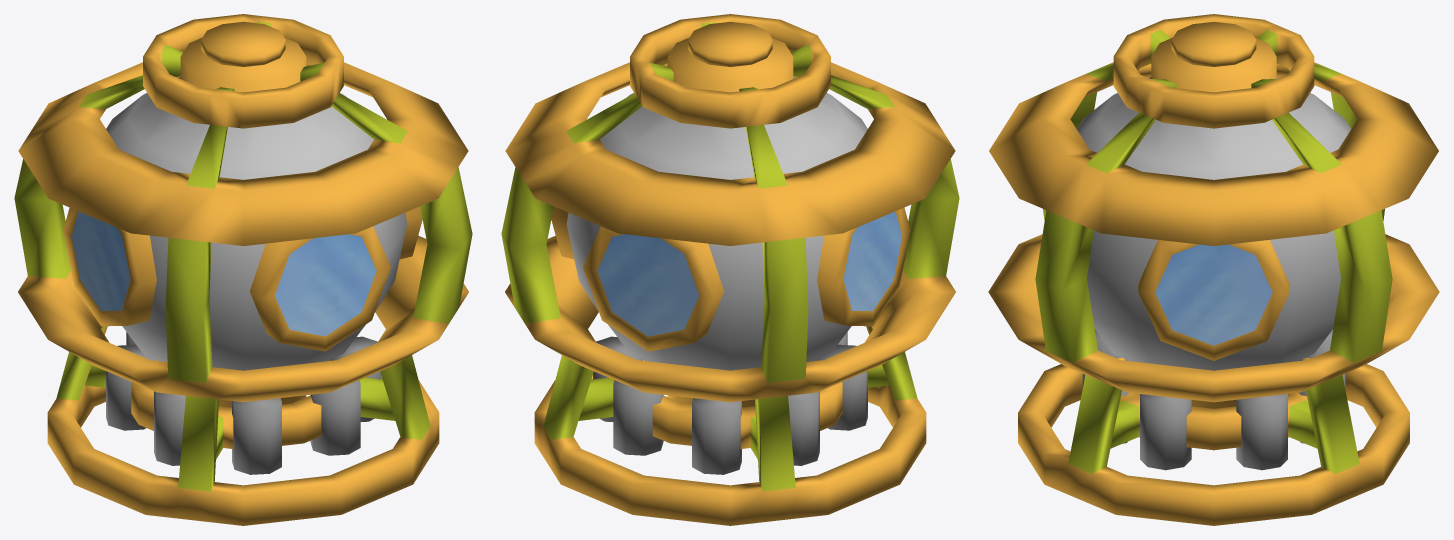
File: Diving Bell.fbx
The picture shows the model from 3 angles, left to right: view 1: azimuth 30°, elevation 25°; view 2: azimuth 150°, elevation 25°; view 3: azimuth 270°, elevation 25°; orthographic projection.
Visible parts, largest first — view 1: Sphere; view 2: Sphere; view 3: Sphere.
Boxes of the visible parts, <box> form: Sphere: <box>14,14,472,525</box>; Sphere: <box>501,14,959,525</box>; Sphere: <box>988,14,1439,525</box>.
Bounding box in the file's own units: 4.16 × 4.16 × 4.1.
